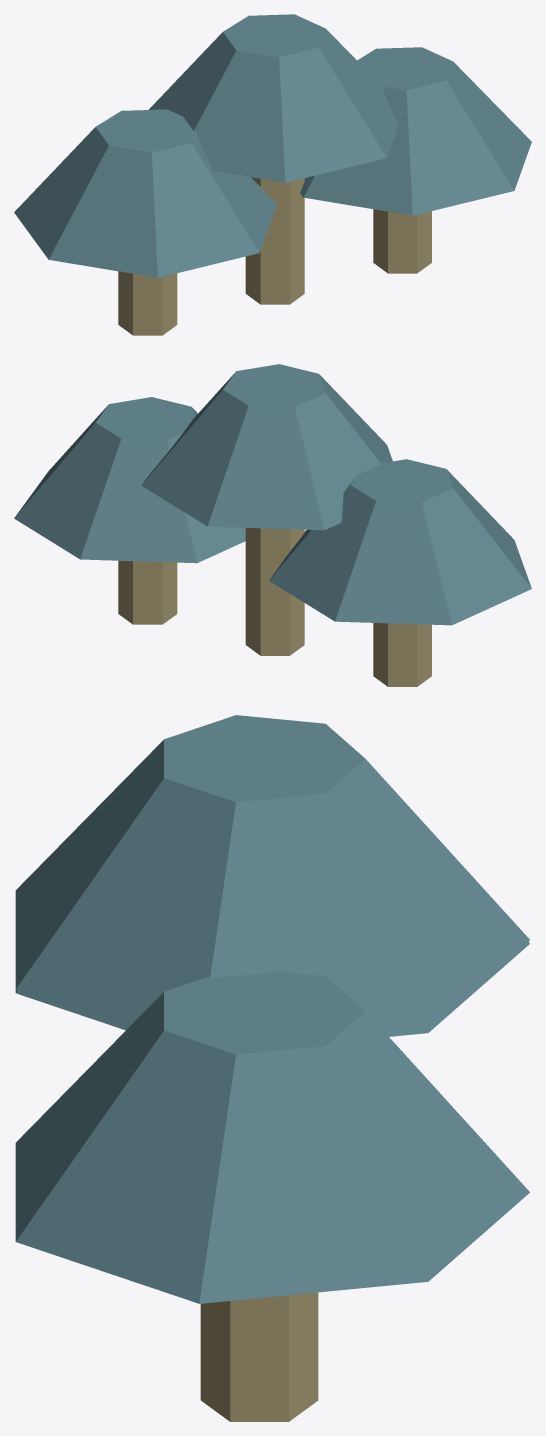
File: mushroom_b.glb
3 renders of one model, top to bottom at view 1: azimuth 30°, elevation 25°; view 2: azimuth 150°, elevation 25°; view 3: azimuth 270°, elevation 25°, orthographic. The views are drawn at different scales.
Visible parts, largest first — view 1: mushroom_b; view 2: mushroom_b; view 3: mushroom_b.
Boxes of the visible parts, x1=… form: mushroom_b: x1=14, y1=14, x2=531, y2=335; mushroom_b: x1=14, y1=364, x2=531, y2=686; mushroom_b: x1=15, y1=715, x2=529, y2=1421.
Size of the model in its own units: 0.9485 by 0.485 by 0.4372.
